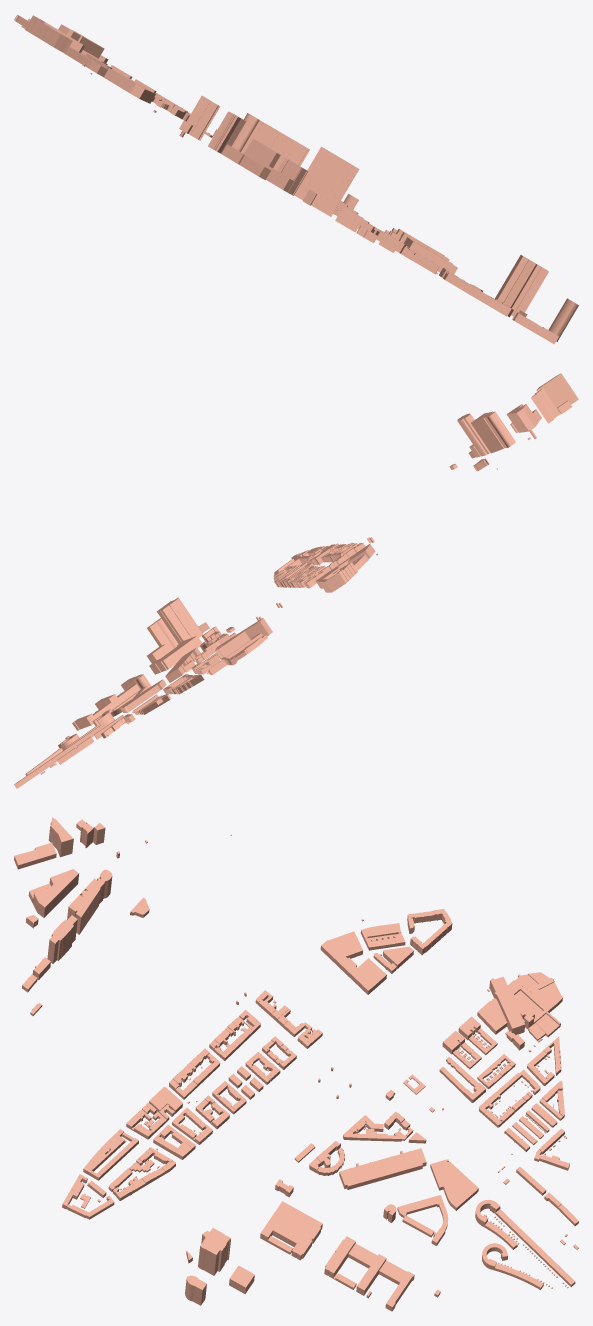
3 views of the same model, one above another, from view 1: azimuth 30°, elevation 25°; view 2: azimuth 150°, elevation 25°; view 3: azimuth 270°, elevation 25° (orthographic). The views are drawn at different scales.
Bounding box in the file's own units: 1014 × 835 × 1292.
